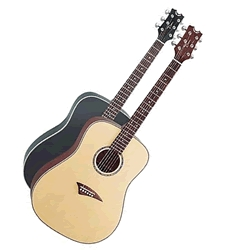guitar: (31, 25, 204, 245), (22, 7, 187, 190)
